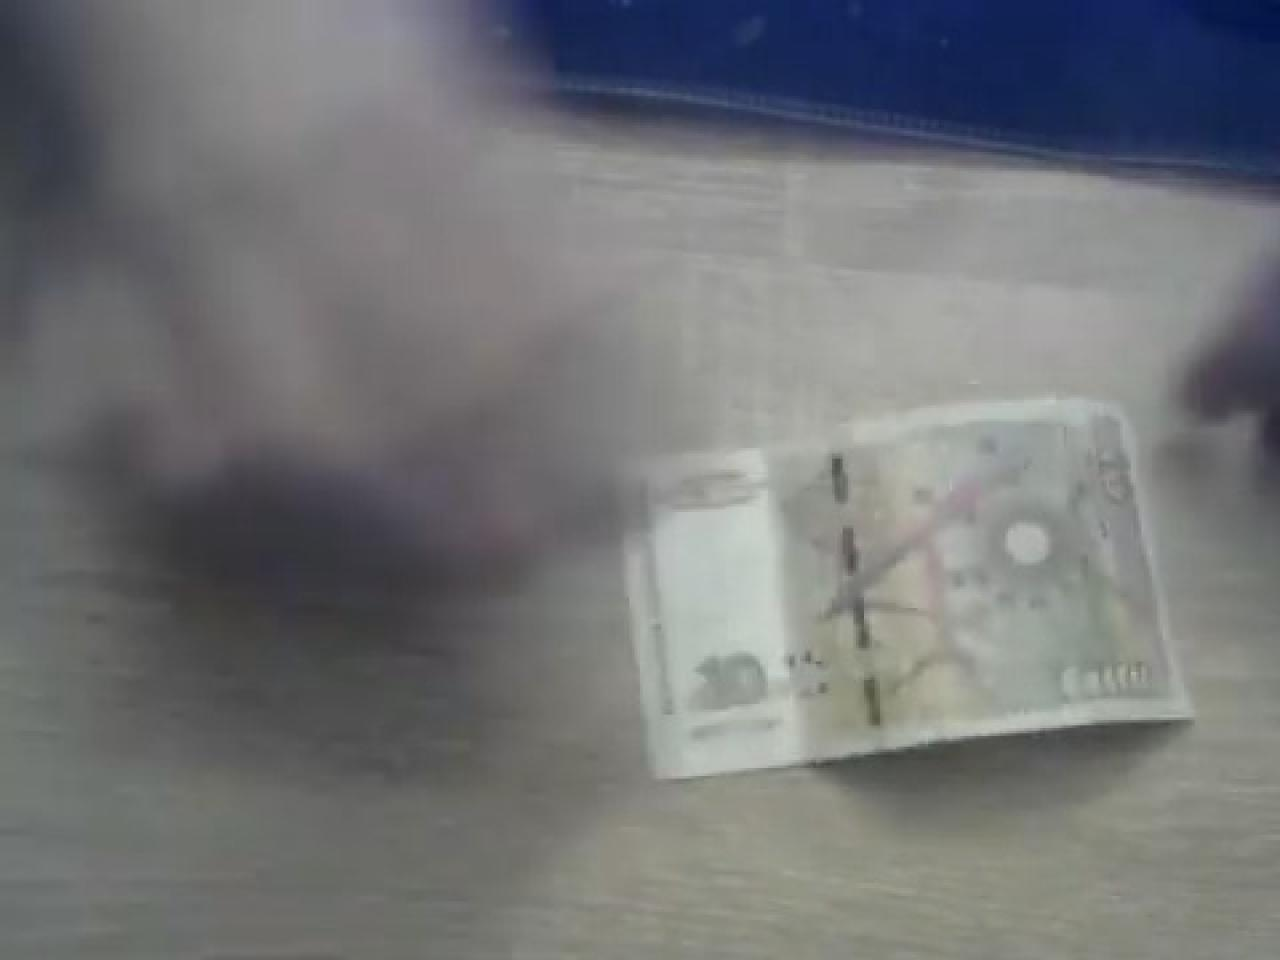10leva: (619, 394, 1194, 784)
